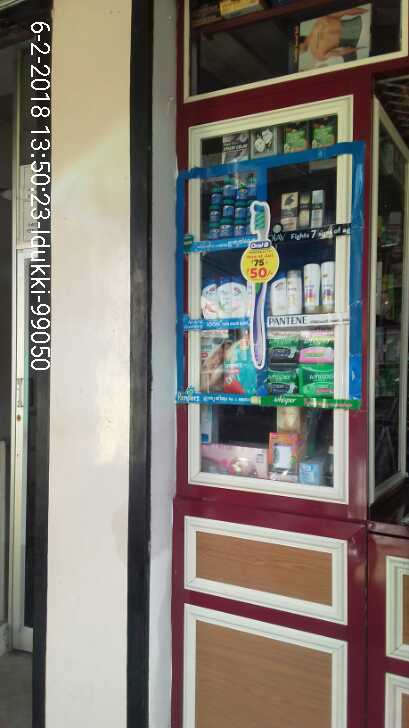vicks: (205, 172, 261, 245)
